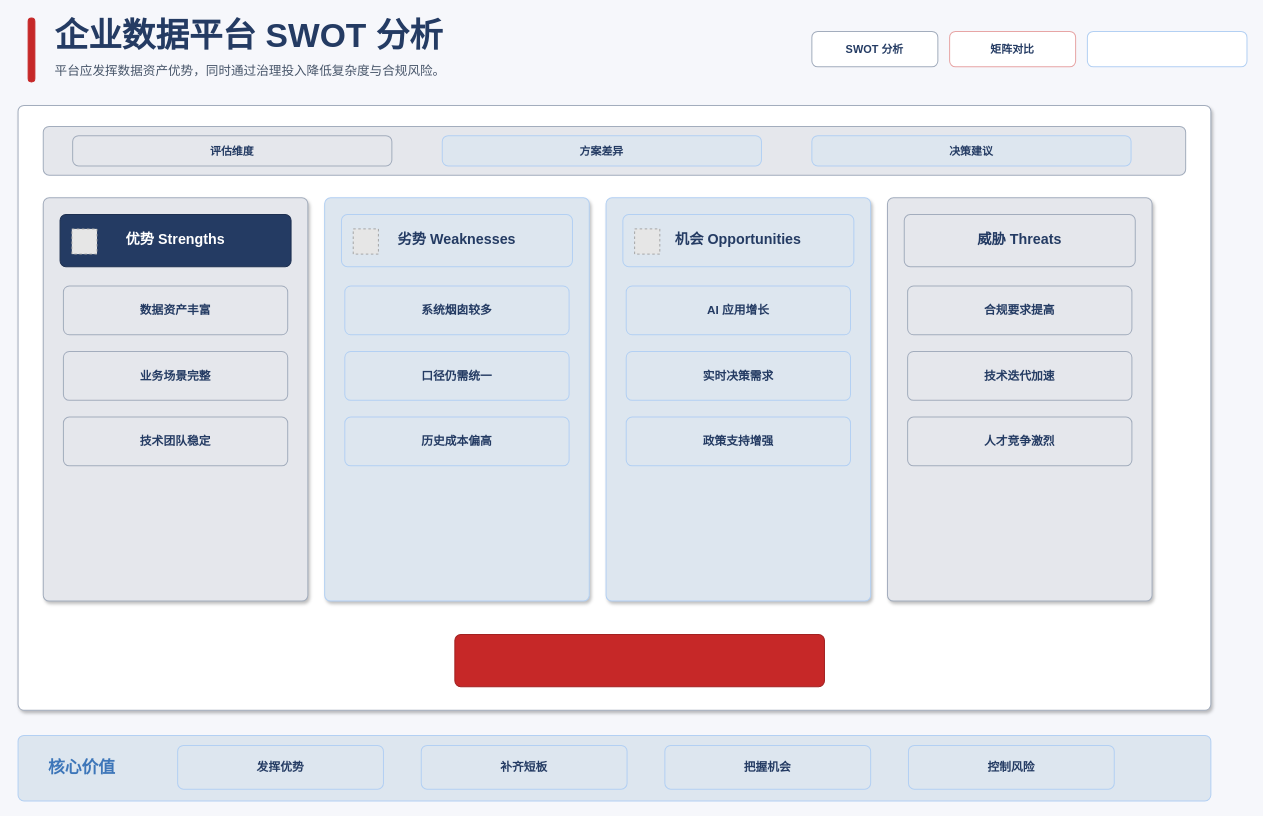
Image size: 1263x816. Some labels were removed from this diagram. Grey dashed boxes stand in for pictures. Each missing label, with the centre of its shape:
"Steady Red & Blue" belongs at point 1166,49.
"推荐关注：治理行动" belongs at point 639,660.
